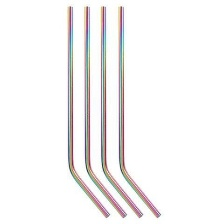drinking_straw: (113, 3, 167, 220)
